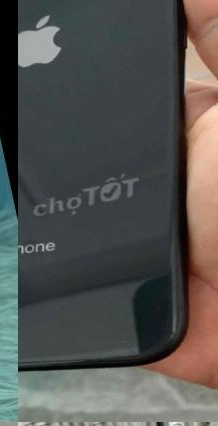scratch: (113, 327, 158, 359)
